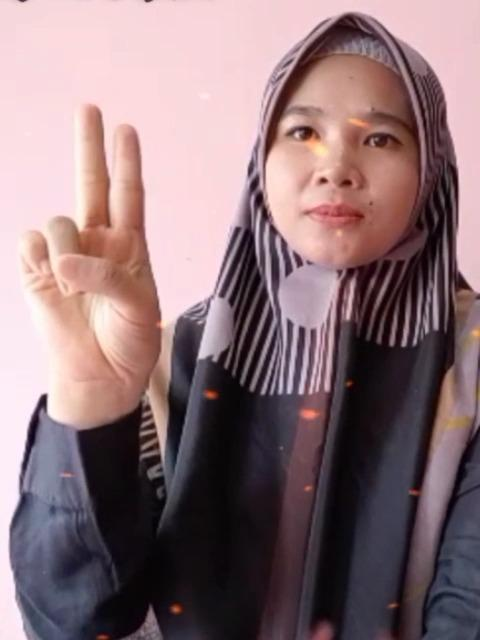U: (15, 92, 169, 388)
